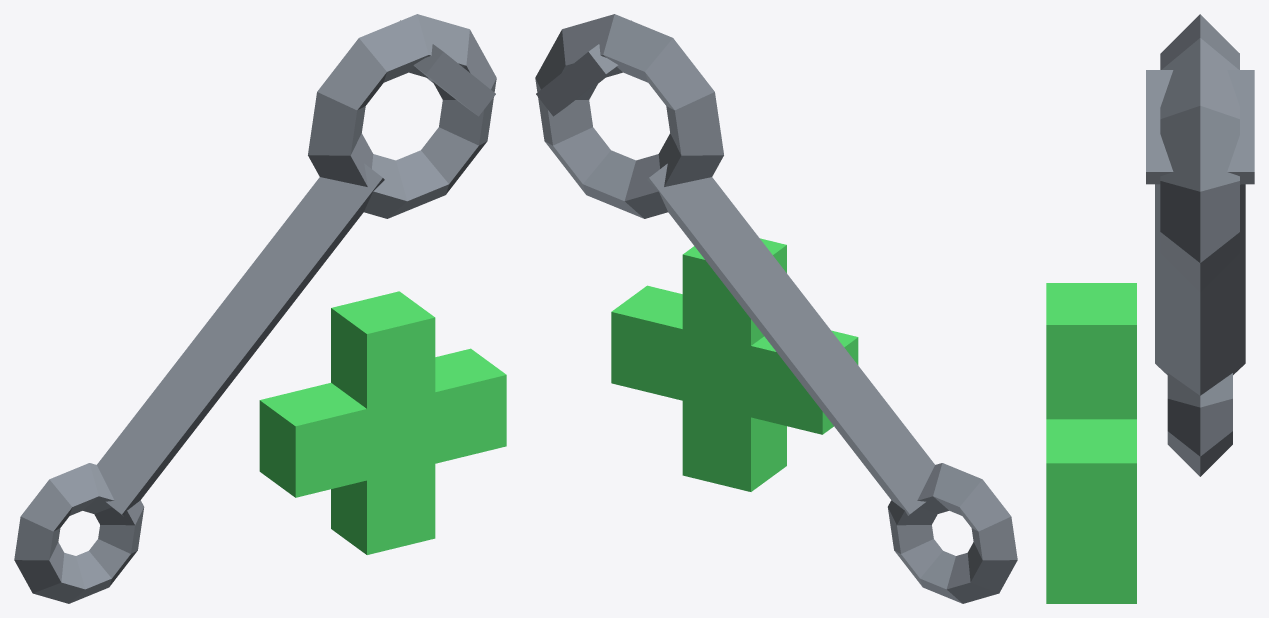
File: GearFieldRepair.obj
3 views of the same model, side by side, from view 1: azimuth 30°, elevation 25°; view 2: azimuth 150°, elevation 25°; view 3: azimuth 270°, elevation 25° (orthographic). The views are drawn at different scales.
Visible parts, largest first — view 1: GearFieldRepair; view 2: GearFieldRepair; view 3: GearFieldRepair.
Part boxes in pixels (x1,y1,x2,y2): GearFieldRepair: (14,14,506,603); GearFieldRepair: (535,14,1017,603); GearFieldRepair: (1046,14,1254,603).
Bounding box in the file's own units: 0.3884 × 0.3884 × 0.115.
